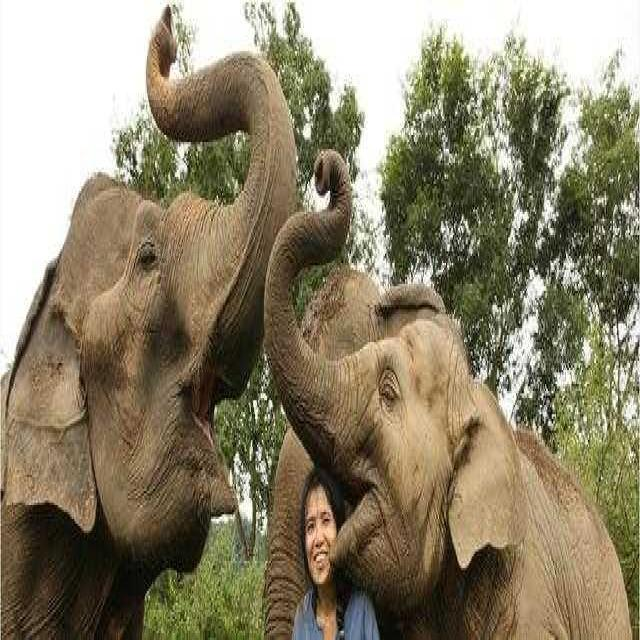Elephant: (0, 2, 298, 638), (262, 147, 633, 638)
person: (291, 463, 380, 638)
